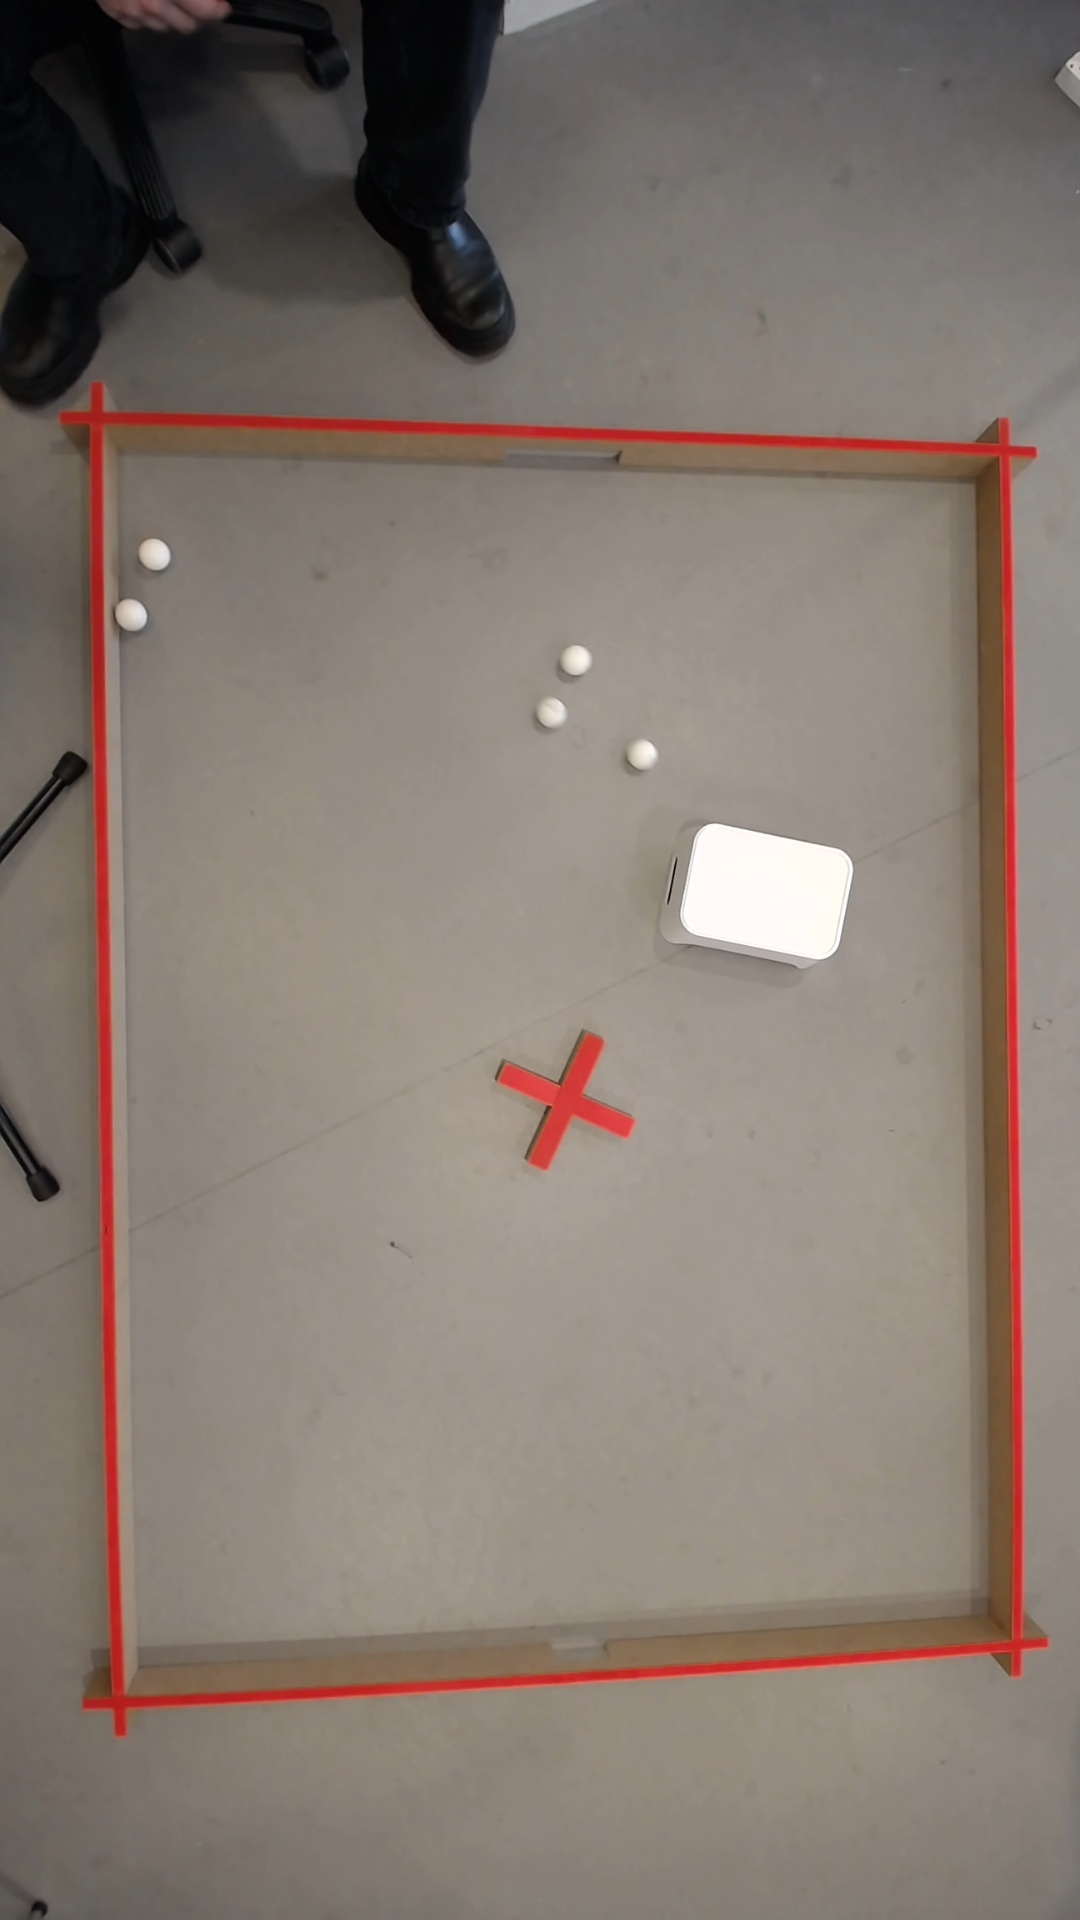balls: (674, 818, 857, 963), (137, 534, 175, 572), (560, 641, 595, 676), (628, 736, 661, 769), (117, 597, 152, 629)
car: (538, 695, 568, 727)
